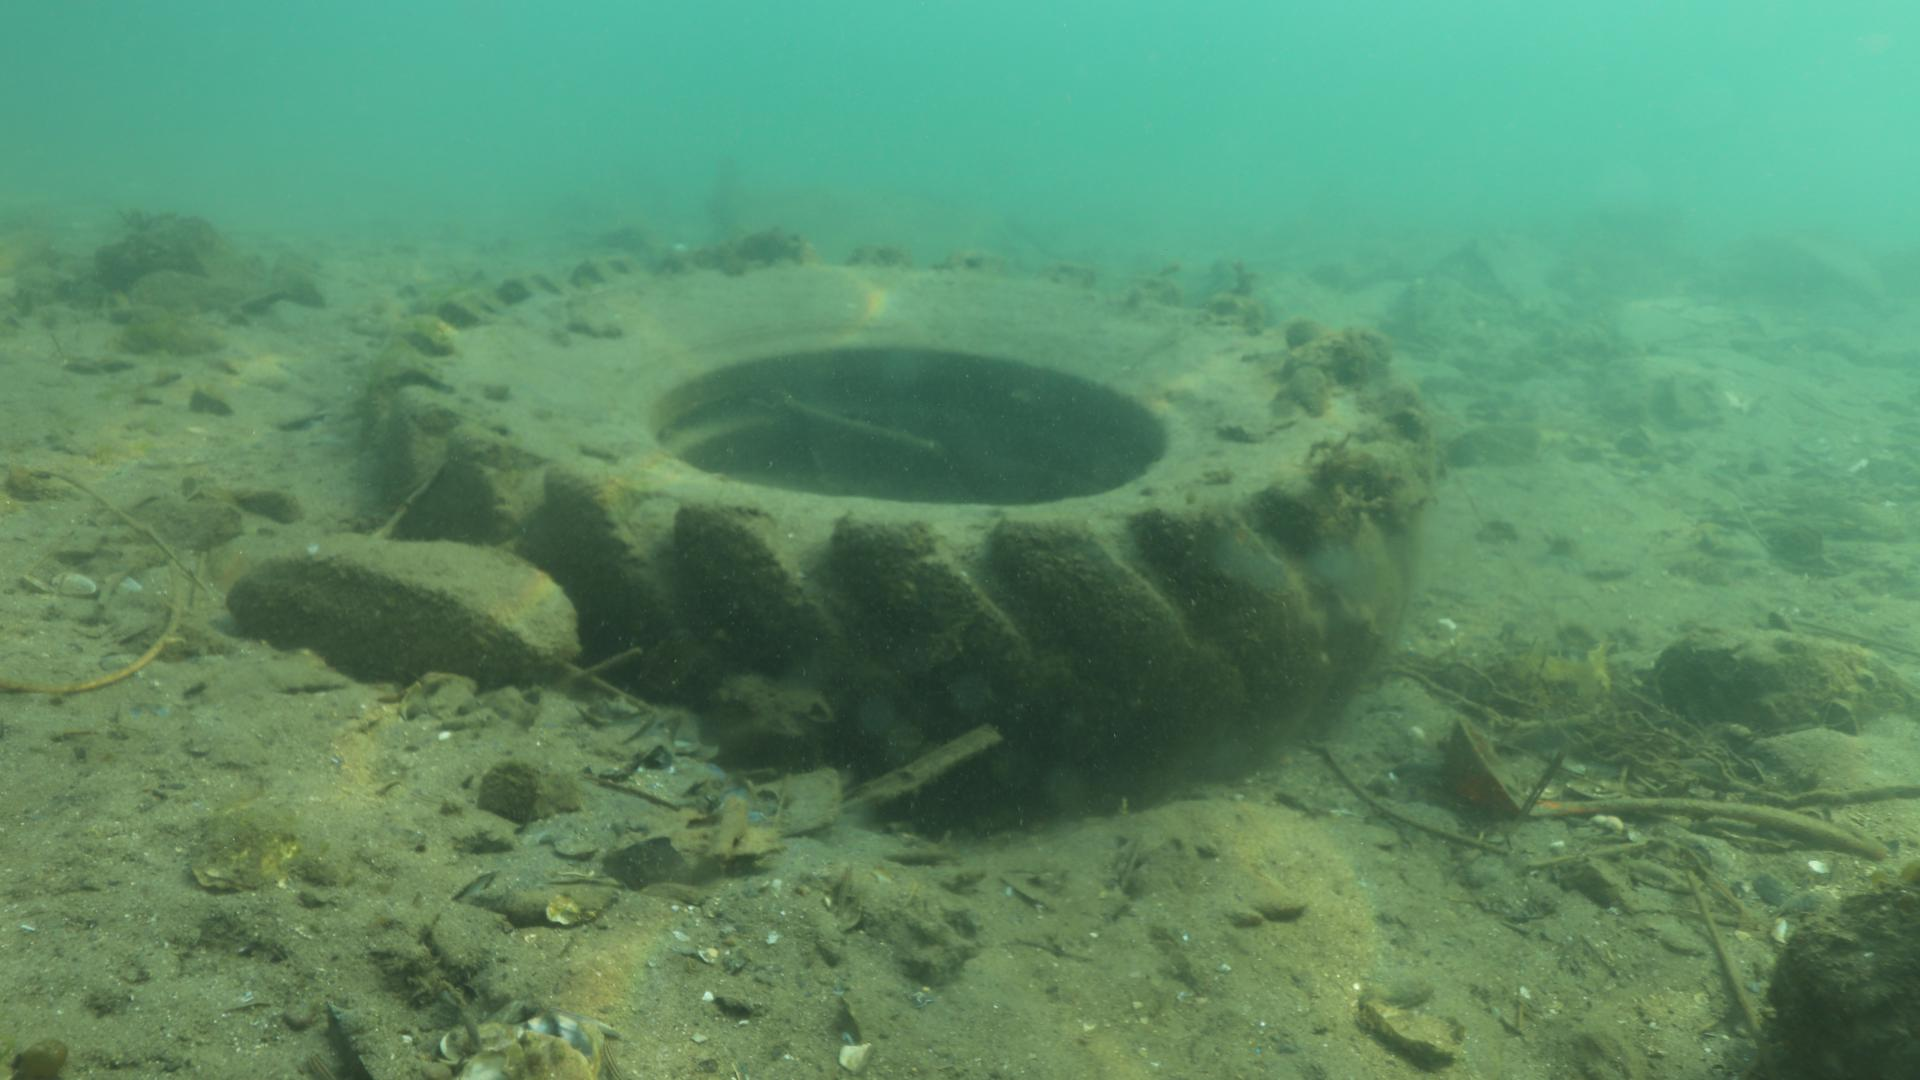tire: (375, 261, 1432, 787)
